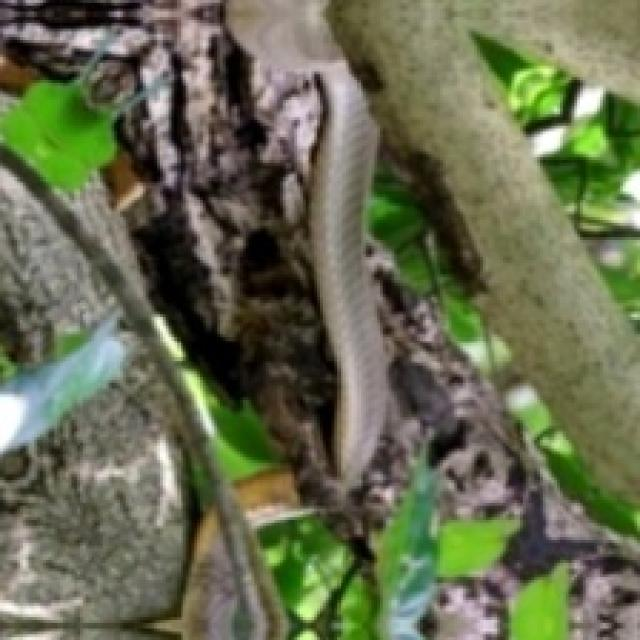king cobra: (310, 61, 389, 479), (181, 510, 245, 639), (236, 470, 300, 524)
